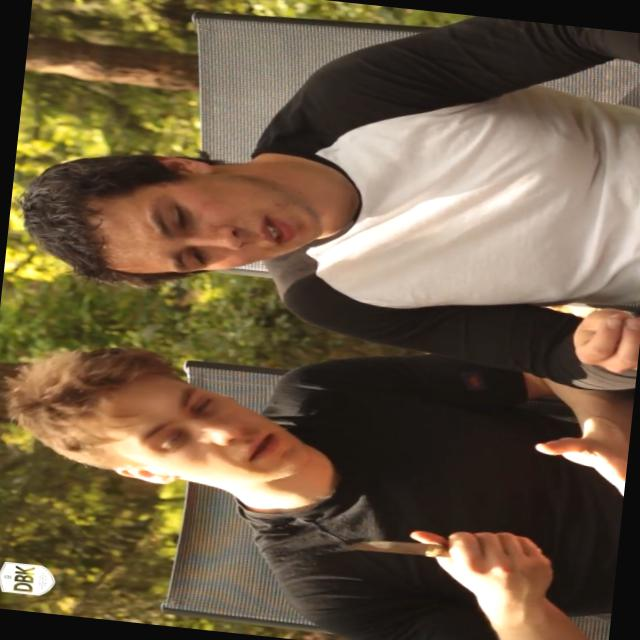knife: (318, 508, 528, 576)
